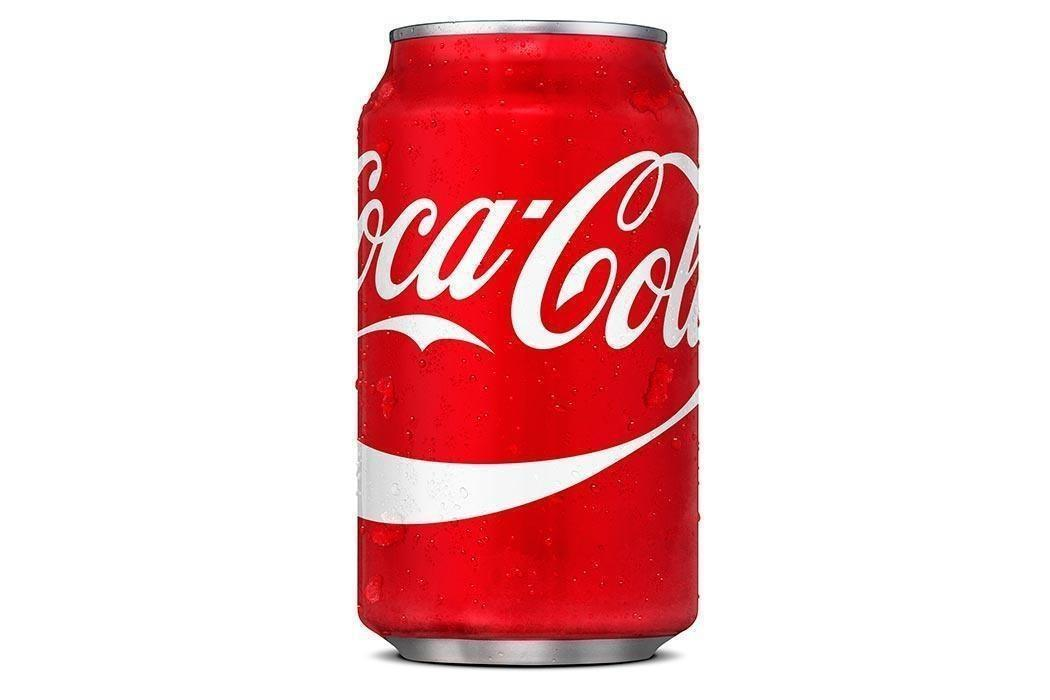tin can: (352, 12, 706, 670)
